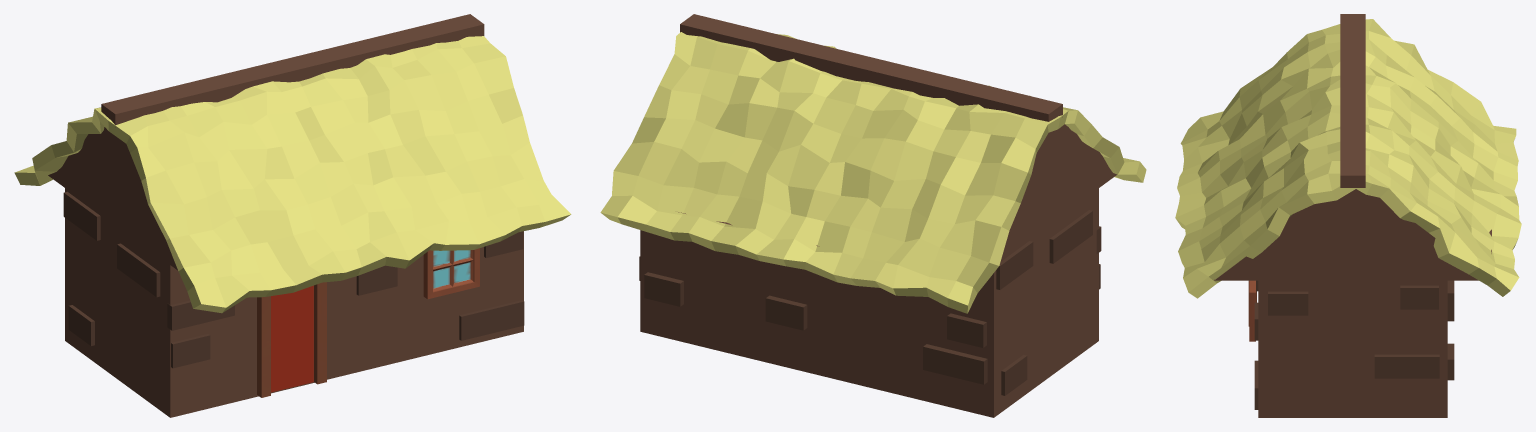
Rendered from Casas.fbx.
The picture shows the model from 3 angles, left to right: view 1: azimuth 30°, elevation 25°; view 2: azimuth 150°, elevation 25°; view 3: azimuth 270°, elevation 25°; orthographic projection. The views are drawn at different scales.
Visible parts, largest first — view 1: Cube.017; view 2: Cube.017; view 3: Cube.017.
Boxes of the visible parts, left/top/right/bottom form: Cube.017: left=14, top=14, right=571, bottom=417; Cube.017: left=600, top=14, right=1146, bottom=417; Cube.017: left=1175, top=14, right=1521, bottom=417.
Size of the model in its own units: 6.38 by 4.35 by 5.58.
Materials: 1 (1 with a texture image).
